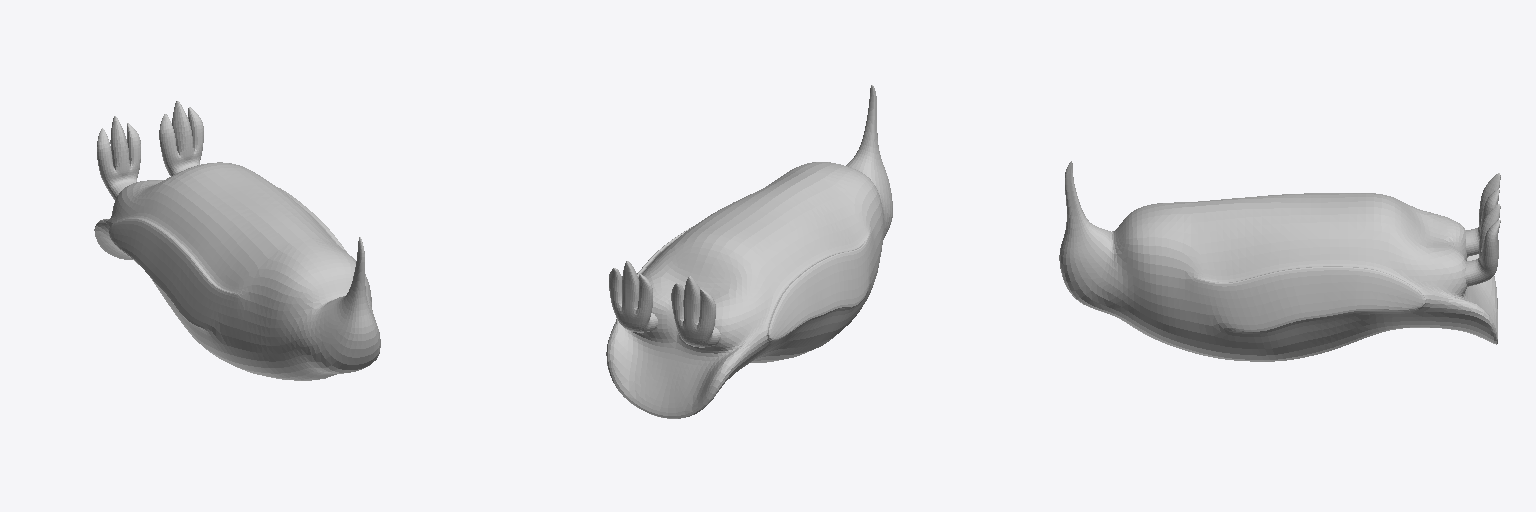
File: pinguino_1.obj
3 views of the same model, side by side, from view 1: azimuth 30°, elevation 25°; view 2: azimuth 150°, elevation 25°; view 3: azimuth 270°, elevation 25° (orthographic).
Parts seen in each view (by area): view 1: P1; view 2: P1; view 3: P1.
Part boxes in pixels (x1,y1,x2,y2): P1: (94, 101, 380, 380); P1: (606, 85, 892, 418); P1: (1059, 161, 1500, 361).
Bounding box in the file's own units: 0.4335 × 0.4912 × 1.03.